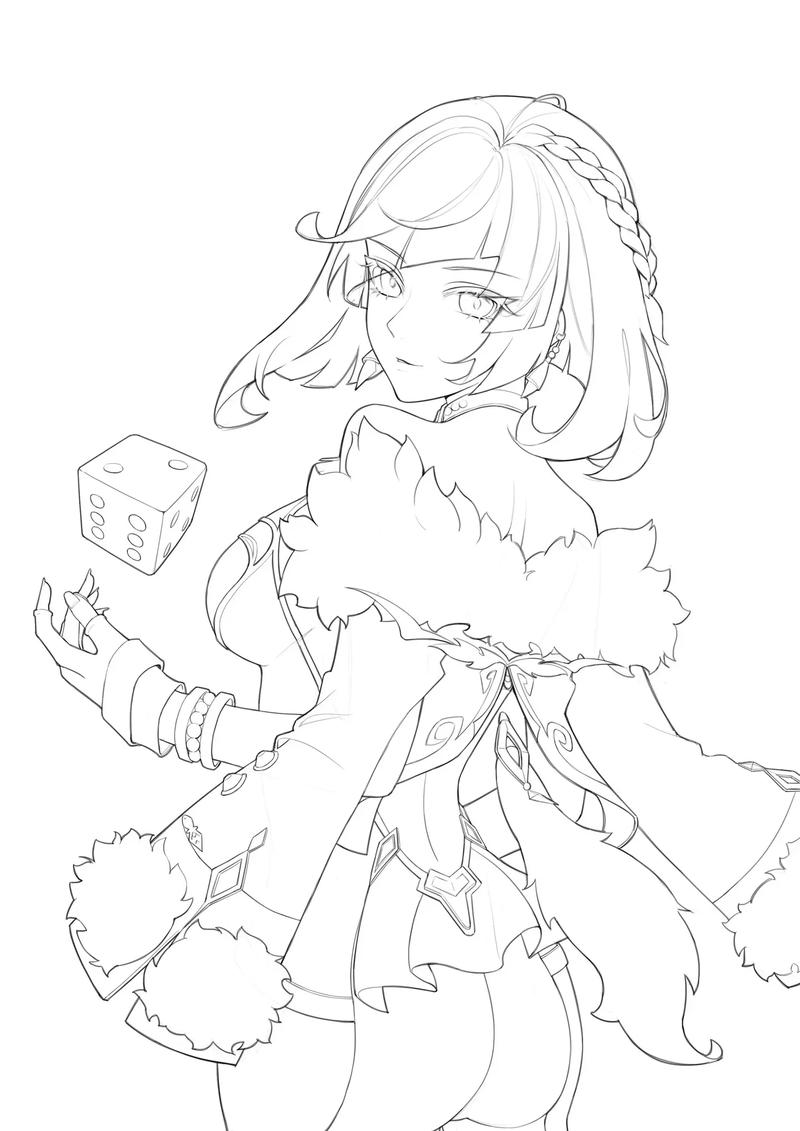夜兰: (40, 82, 798, 1131)
